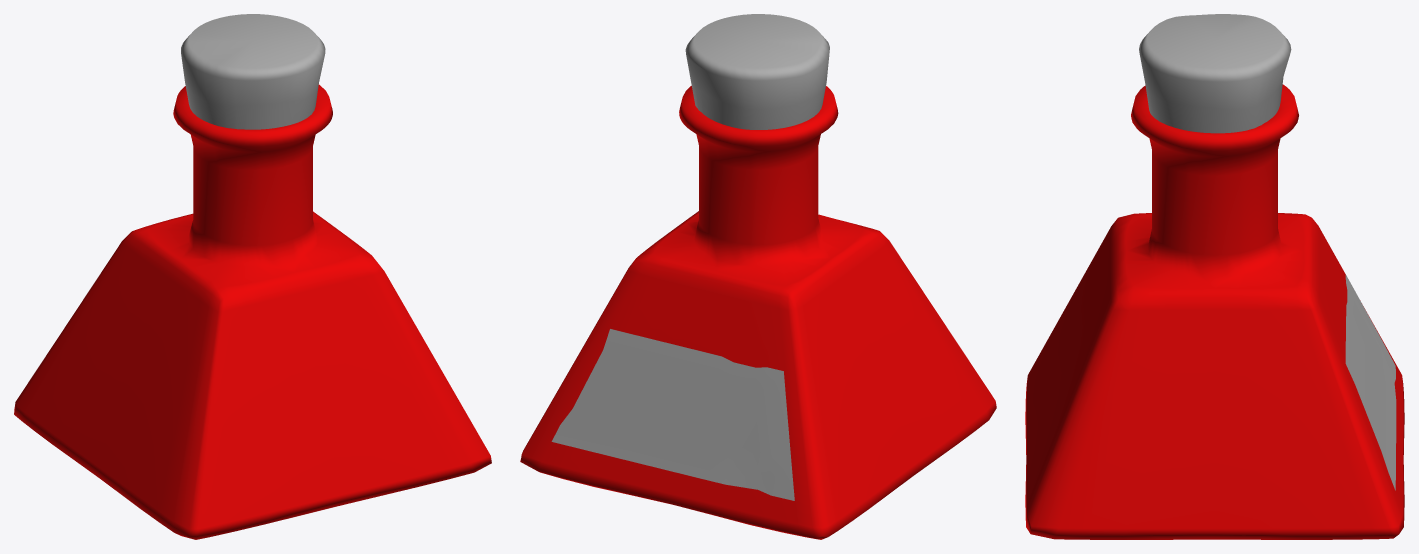
File: Potion.fbx
3 renders of one model, left to right at view 1: azimuth 30°, elevation 25°; view 2: azimuth 150°, elevation 25°; view 3: azimuth 270°, elevation 25°, orthographic. The views are drawn at different scales.
Visible parts, largest first — view 1: Potion; view 2: Potion; view 3: Potion.
Boxes of the visible parts, box(x1,y1,x2,y2) form: Potion: box(14, 14, 491, 539); Potion: box(520, 14, 996, 539); Potion: box(1025, 14, 1404, 539).
Size of the model in its own units: 29.23 by 36.31 by 29.23.
